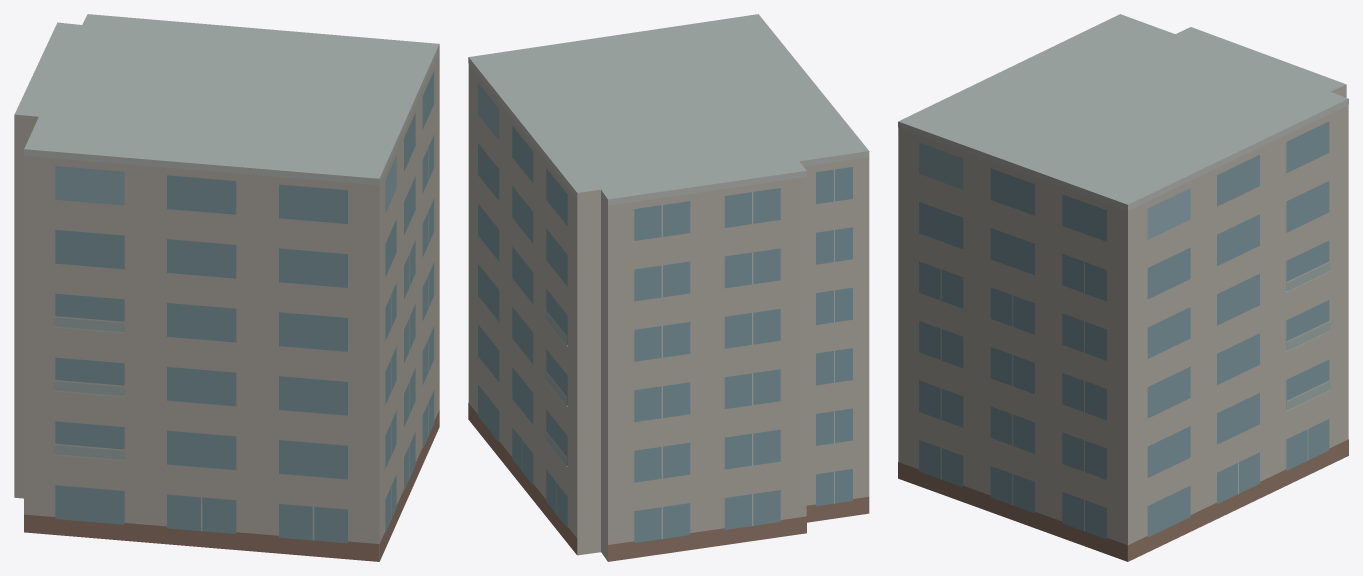
Rendered from survey-upis-32893247.glb.
3 views of the same model, side by side, from view 1: azimuth 30°, elevation 25°; view 2: azimuth 150°, elevation 25°; view 3: azimuth 270°, elevation 25° (orthographic). The views are drawn at different scales.
Parts seen in each view (by area): view 1: survey-upis-32893247.tmp; view 2: survey-upis-32893247.tmp; view 3: survey-upis-32893247.tmp.
Part boxes in pixels (bbox=[...]): survey-upis-32893247.tmp: bbox=[14, 14, 439, 561]; survey-upis-32893247.tmp: bbox=[468, 14, 869, 561]; survey-upis-32893247.tmp: bbox=[898, 14, 1348, 561].
Size of the model in its own units: 16.51 by 14.4 by 16.48.
